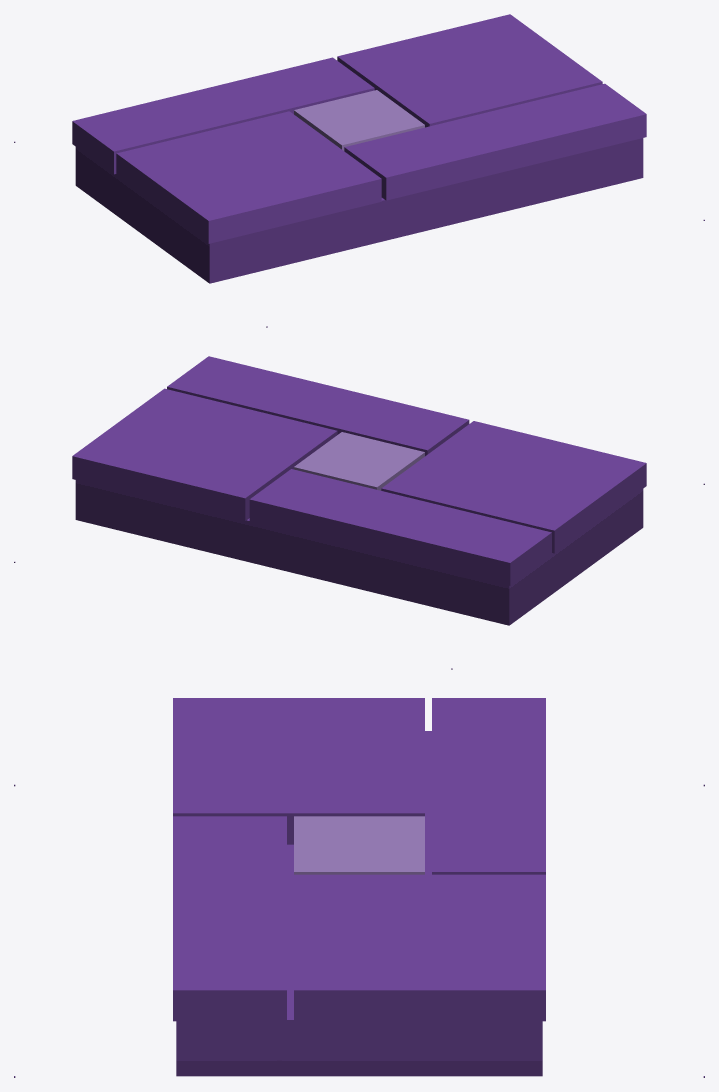
Rendered from floor_crystal_straight.glb.
3 views of the same model, one above another, from view 1: azimuth 30°, elevation 25°; view 2: azimuth 150°, elevation 25°; view 3: azimuth 270°, elevation 25° (orthographic). The views are drawn at different scales.
Bounding box in the file's own units: 1 × 0.14 × 1.
1 material, 1 textured.
